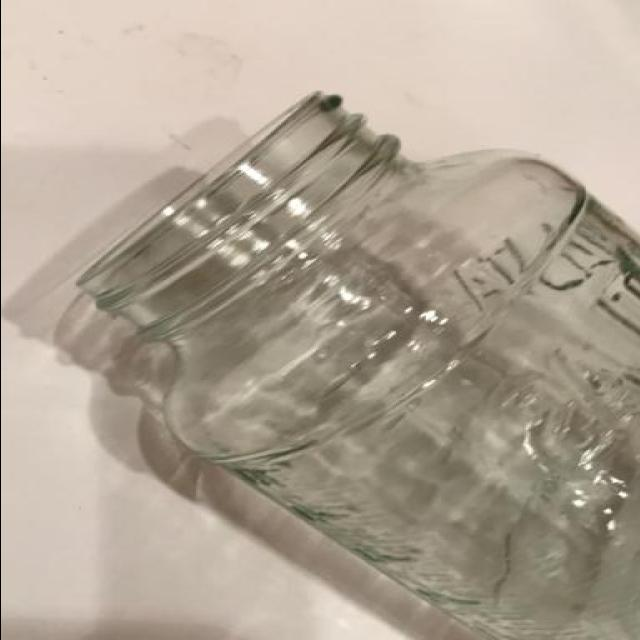glass: (58, 71, 640, 640)
